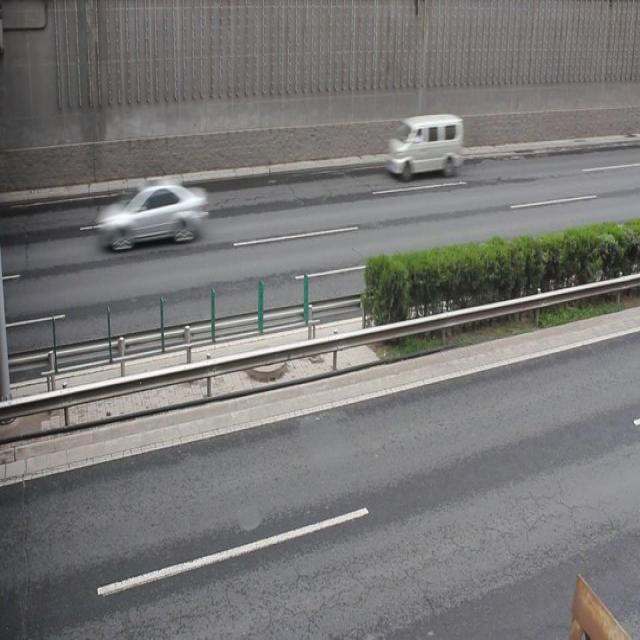car: (98, 175, 208, 250)
truck: (387, 114, 462, 178)
